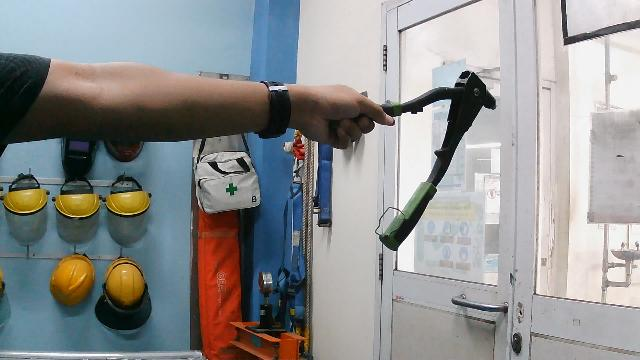tang_rivet: (325, 64, 503, 258)
